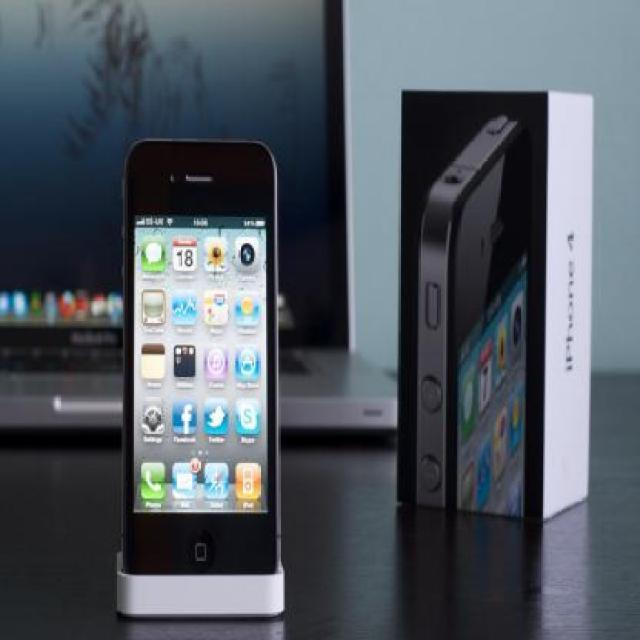phone: (123, 140, 283, 577), (417, 117, 526, 517)
